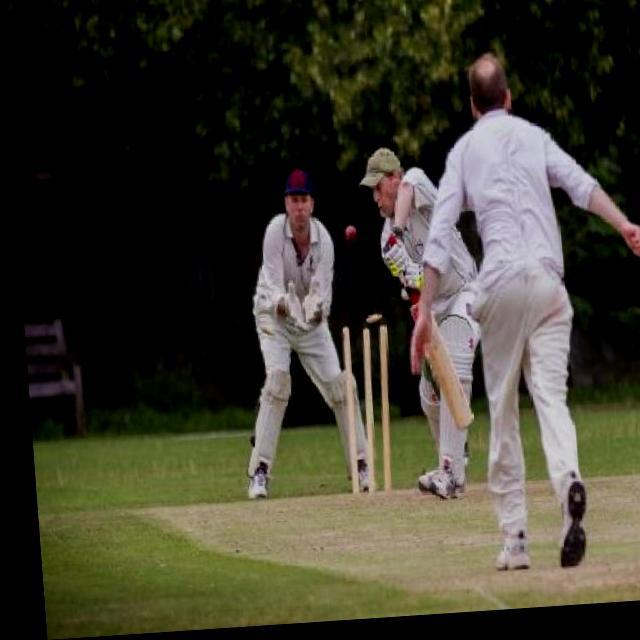-: (332, 225, 361, 258)
